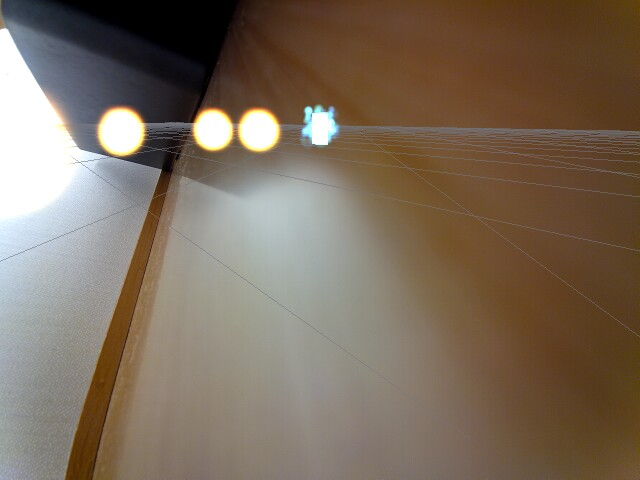firebig: (0, 79, 83, 226)
